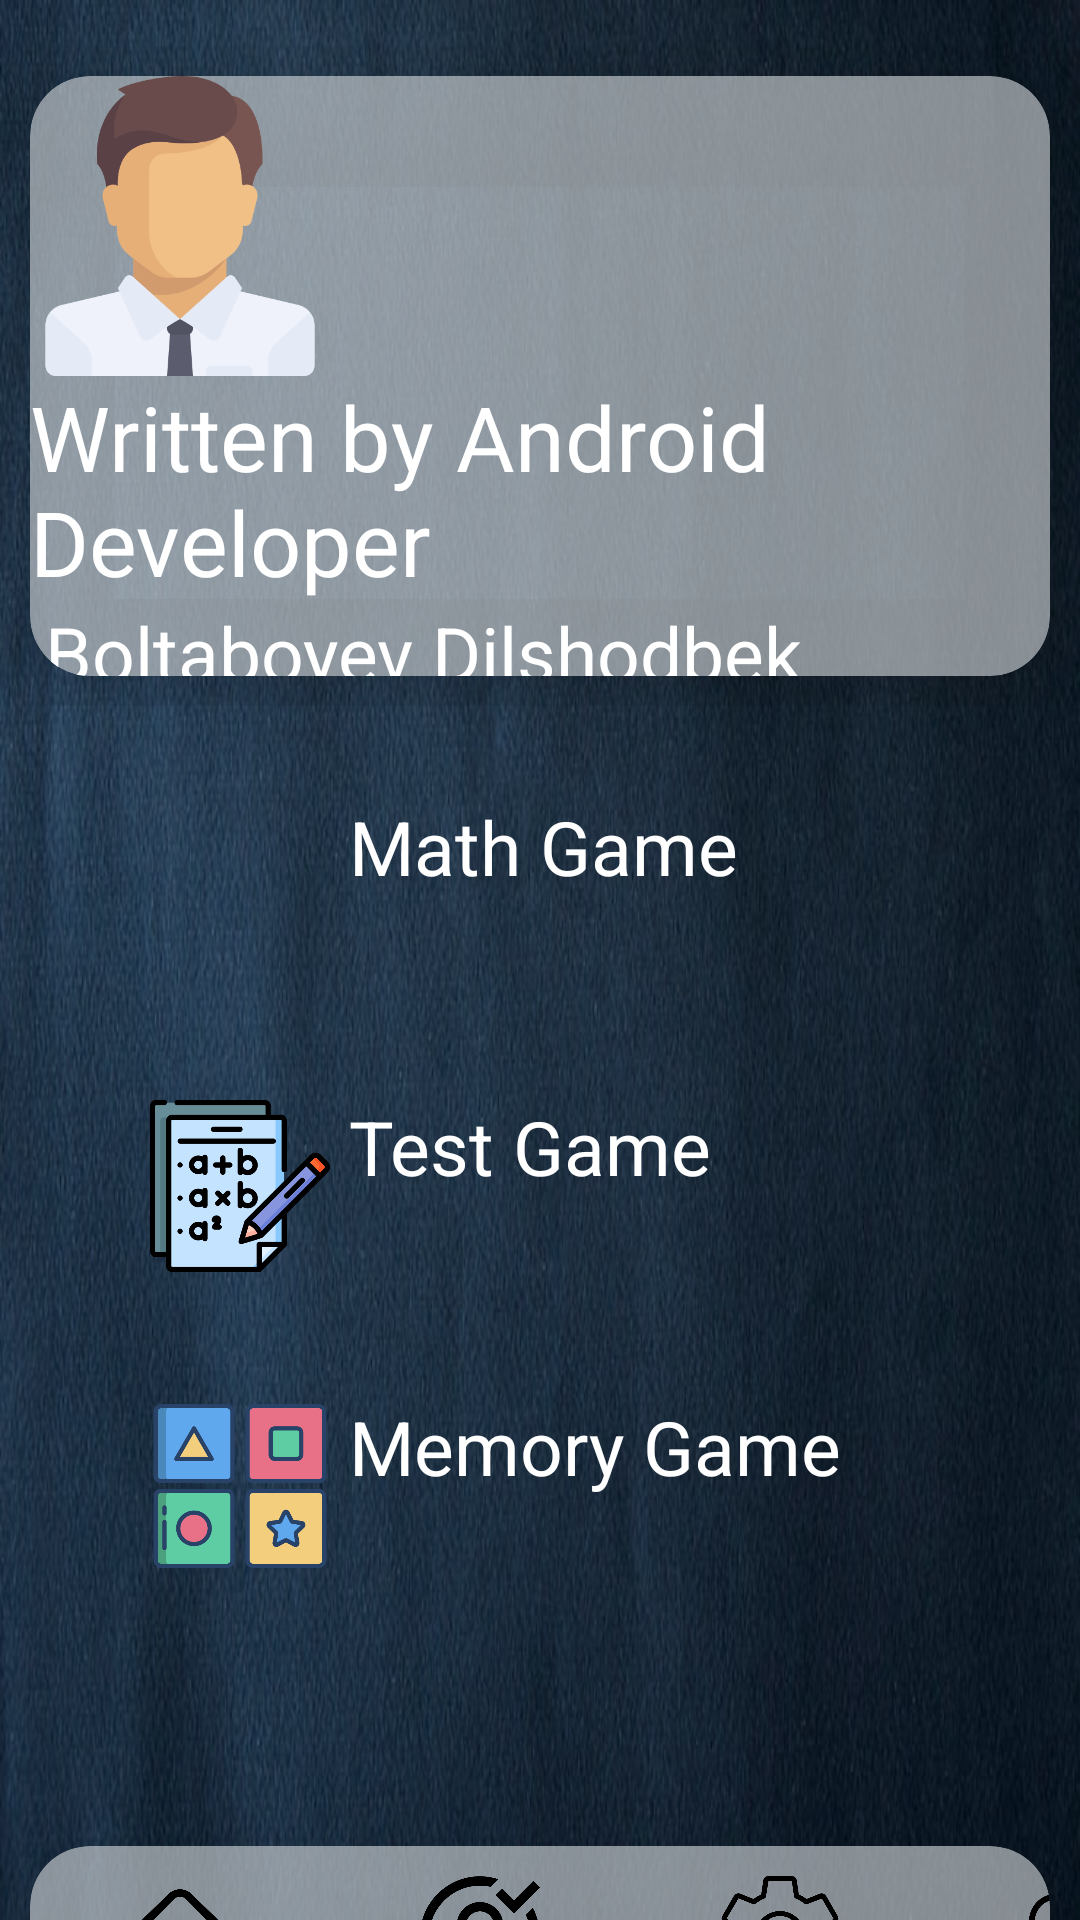

Named icons in this screenshot (1080px x 1920px) and their centers, point (x, y):
erkak: point (180, 226)
